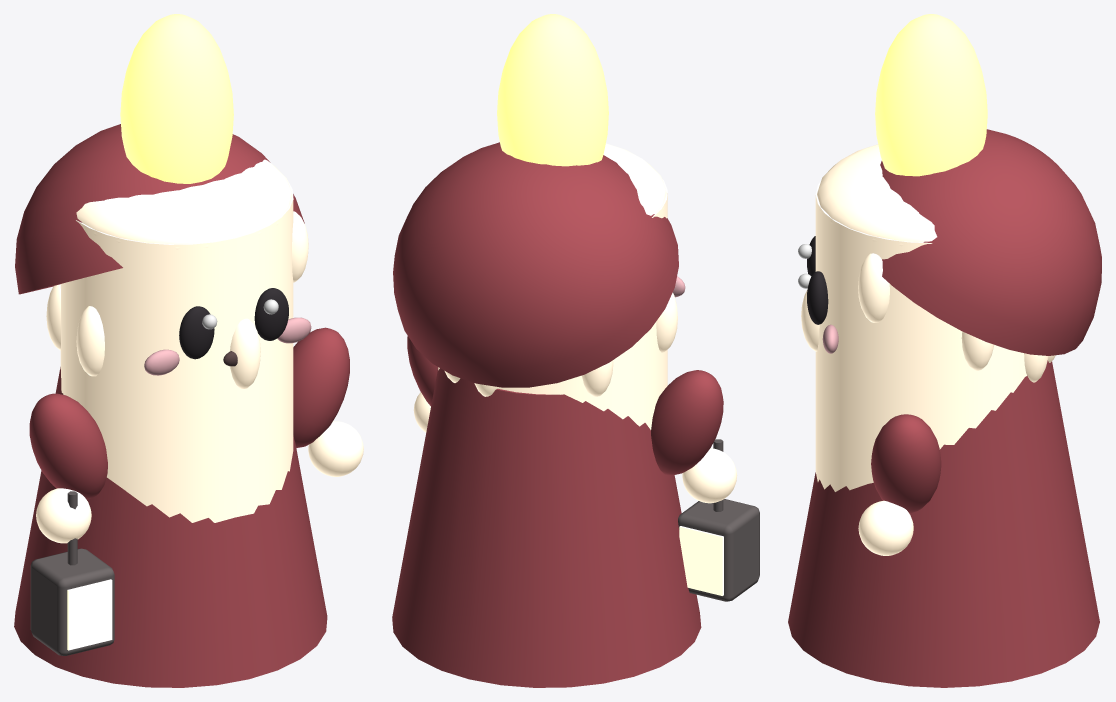
The model's file is ash_altar.fbx.
3 views of the same model, side by side, from view 1: azimuth 30°, elevation 25°; view 2: azimuth 150°, elevation 25°; view 3: azimuth 270°, elevation 25° (orthographic).
Visible parts, largest first — view 1: ash_altar.001; view 2: ash_altar.001; view 3: ash_altar.001.
Part boxes in pixels (x1,y1,x2,y2): ash_altar.001: [14, 14, 363, 687]; ash_altar.001: [392, 14, 759, 687]; ash_altar.001: [788, 14, 1101, 687].
Bounding box in the file's own units: 1.48 × 2.65 × 1.25.
